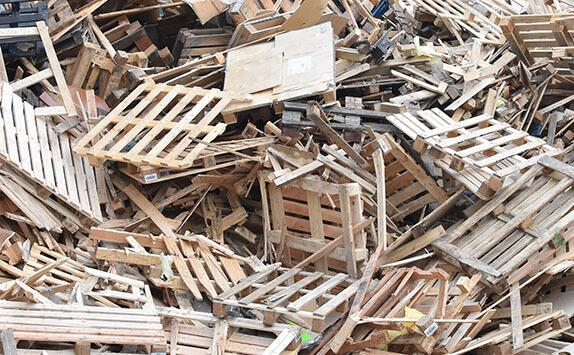wood: (440, 152, 571, 295), (76, 80, 240, 175), (2, 78, 105, 229), (415, 109, 561, 192), (223, 17, 334, 125), (361, 265, 483, 347), (213, 261, 358, 327), (5, 296, 168, 351), (501, 10, 572, 87), (491, 301, 568, 352), (70, 41, 125, 100)
